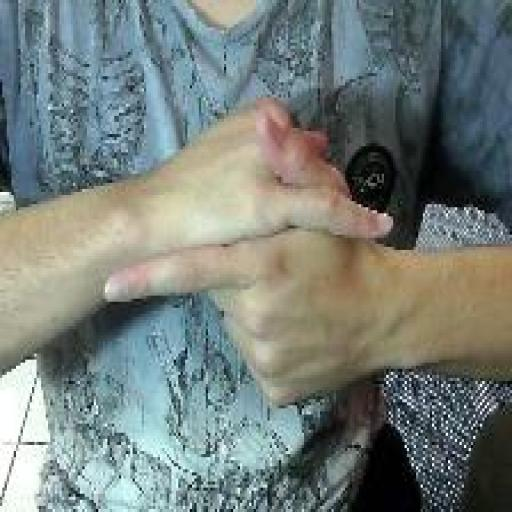U -hare-: (99, 88, 399, 412)
